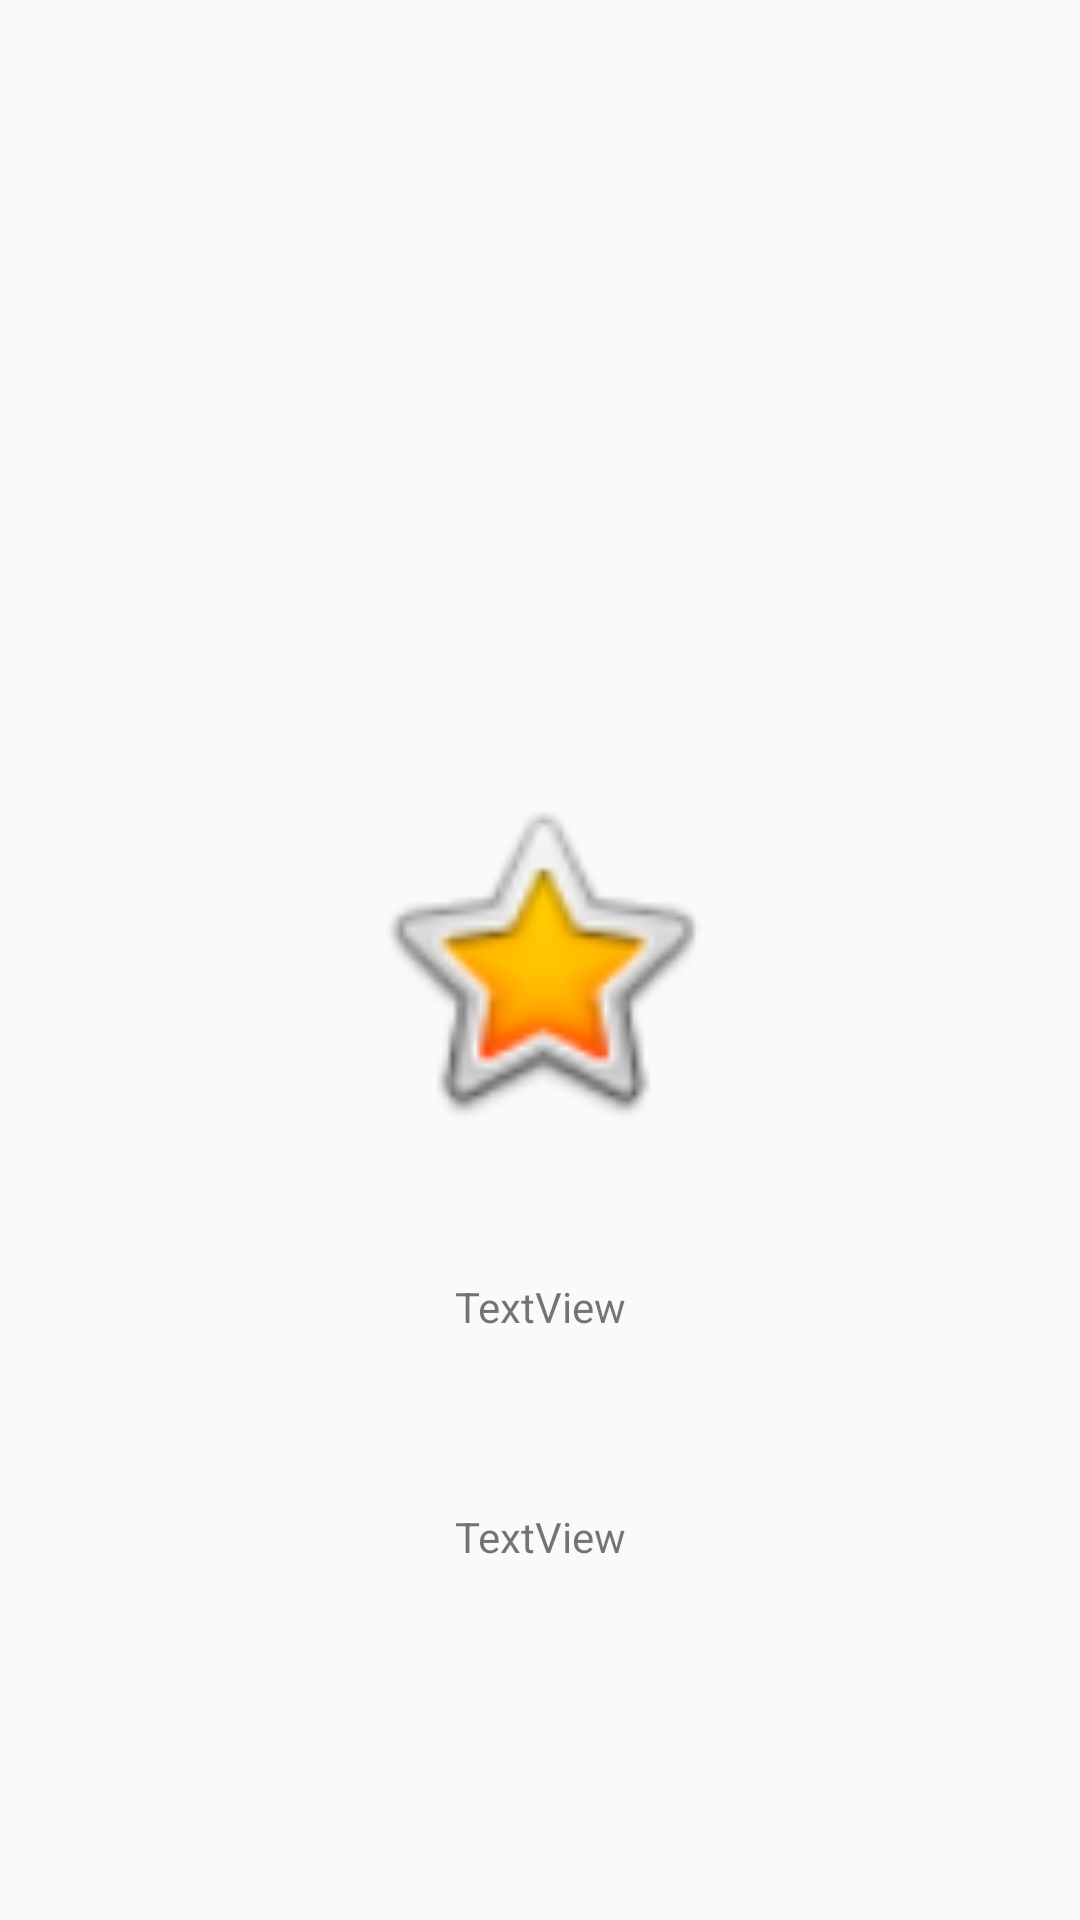

Named icons in this screenshot (1080px x 1920px) and their centers, [x,y]:
star on: [543,963]
